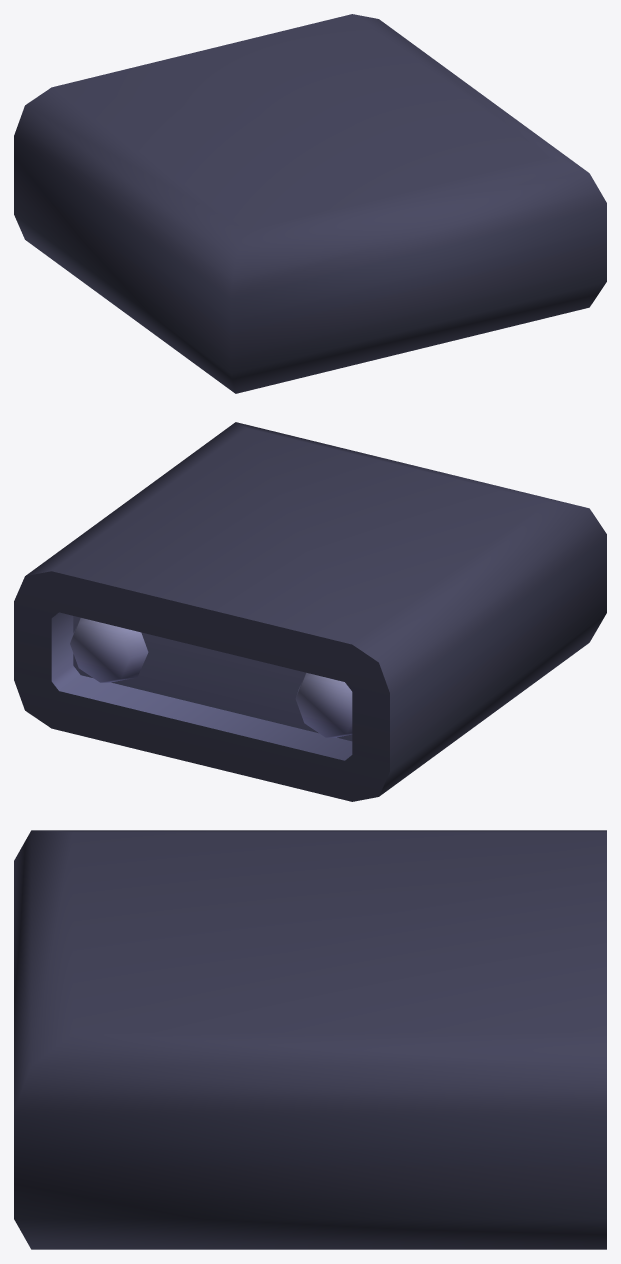
The model's file is kenney-factory-conveyor-junction-t.glb.
3 renders of one model, top to bottom at view 1: azimuth 30°, elevation 25°; view 2: azimuth 150°, elevation 25°; view 3: azimuth 270°, elevation 25°, orthographic. The views are drawn at different scales.
Visible parts, largest first — view 1: conveyor-junction-t; view 2: conveyor-junction-t; view 3: conveyor-junction-t.
Part boxes in pixels (<box>): conveyor-junction-t: <box>14,14,606,393</box>; conveyor-junction-t: <box>14,422,606,801</box>; conveyor-junction-t: <box>14,830,606,1249</box>.
Bounding box in the file's own units: 1 × 0.3999 × 1.
Materials: 1 (1 with a texture image).
